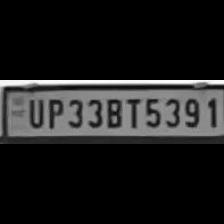1: (202, 95, 220, 127)
3: (64, 95, 84, 129), (84, 95, 104, 129), (162, 95, 180, 127)
5: (142, 95, 162, 127)
9: (180, 95, 200, 129)
B: (103, 95, 123, 129)
P: (43, 95, 63, 129)
T: (123, 95, 141, 129)
U: (23, 95, 44, 129)
